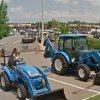Tractor: (39, 24, 100, 82)
